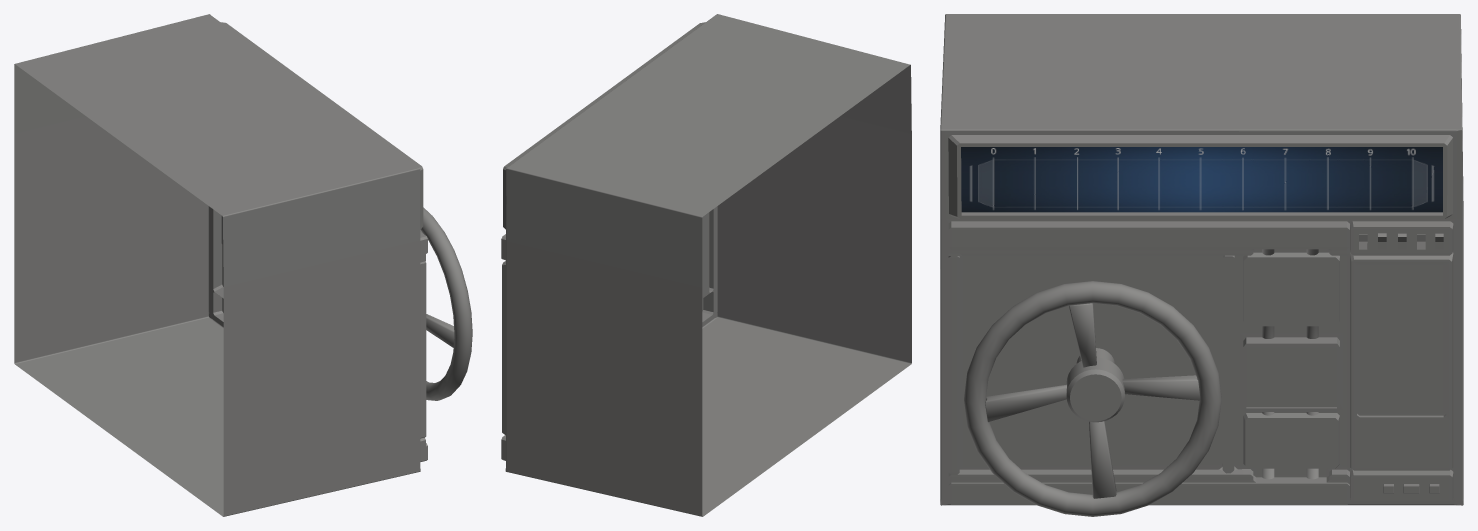
Rendered from ValvePanel.fbx.
3 views of the same model, side by side, from view 1: azimuth 30°, elevation 25°; view 2: azimuth 150°, elevation 25°; view 3: azimuth 270°, elevation 25° (orthographic). The views are drawn at different scales.
Visible parts, largest first — view 1: ValvePanel_Base, VavlePanel_Valve; view 2: ValvePanel_Base; view 3: ValvePanel_Base, VavlePanel_Valve.
Part boxes in pixels (x1,y1,x2,y2): ValvePanel_Base: [14, 14, 427, 516]; VavlePanel_Valve: [420, 207, 472, 400]; ValvePanel_Base: [501, 14, 911, 516]; ValvePanel_Base: [940, 14, 1463, 505]; VavlePanel_Valve: [964, 281, 1221, 516].
Bounding box in the file's own units: 117 × 92.76 × 83.22.
Materials: 2 (1 with a texture image).
